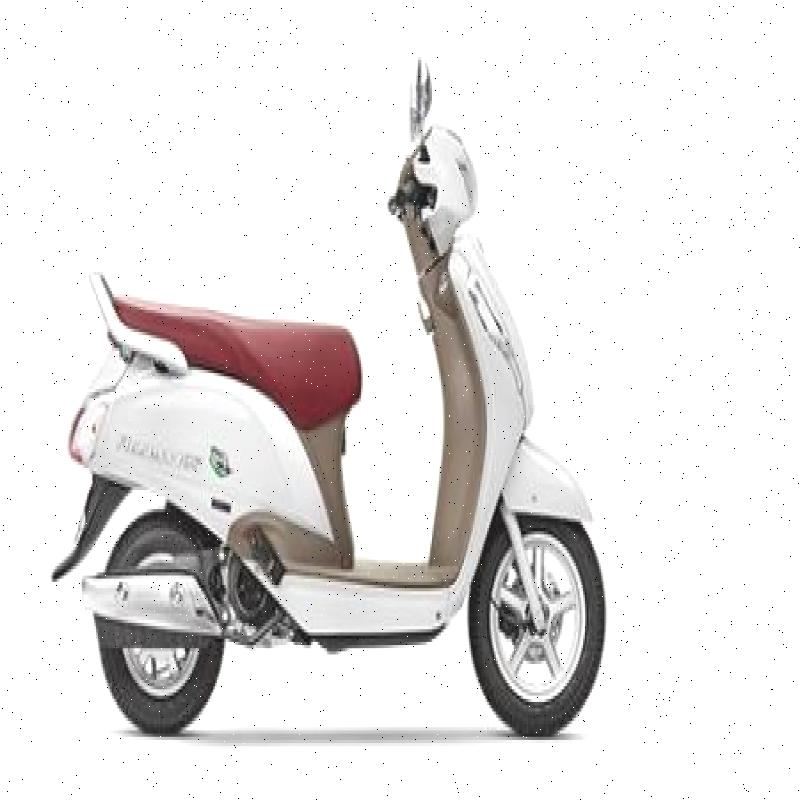bike: (51, 58, 605, 728)
